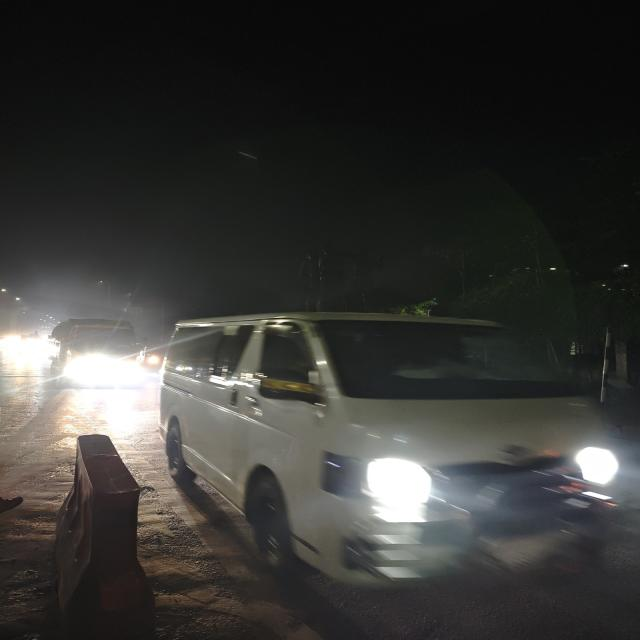car: (136, 308, 624, 599)
truck: (48, 317, 148, 391)
